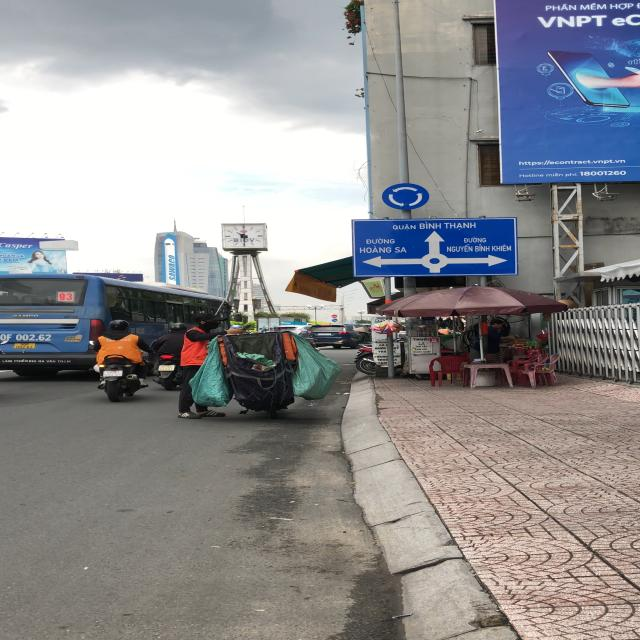Bien bao noi giao nhau chay theo vong xuyen: (379, 182, 436, 210)
